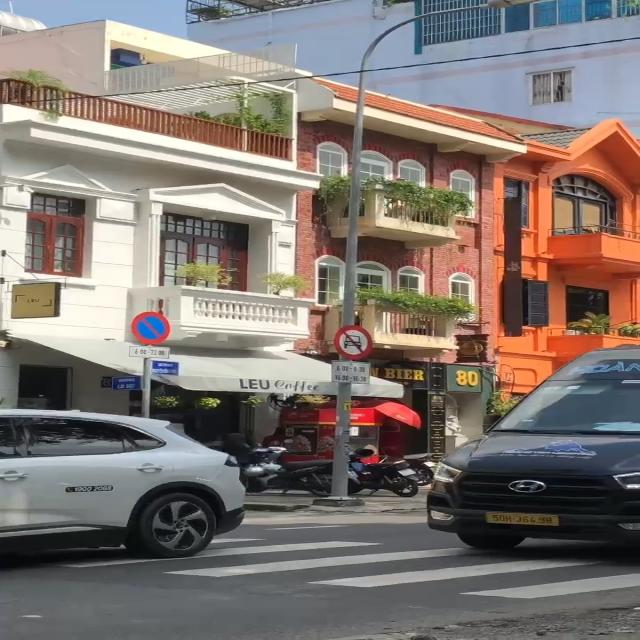Bien bao cam do xe: (130, 311, 177, 345)
Bien bao cam xe oto: (330, 324, 375, 361)
